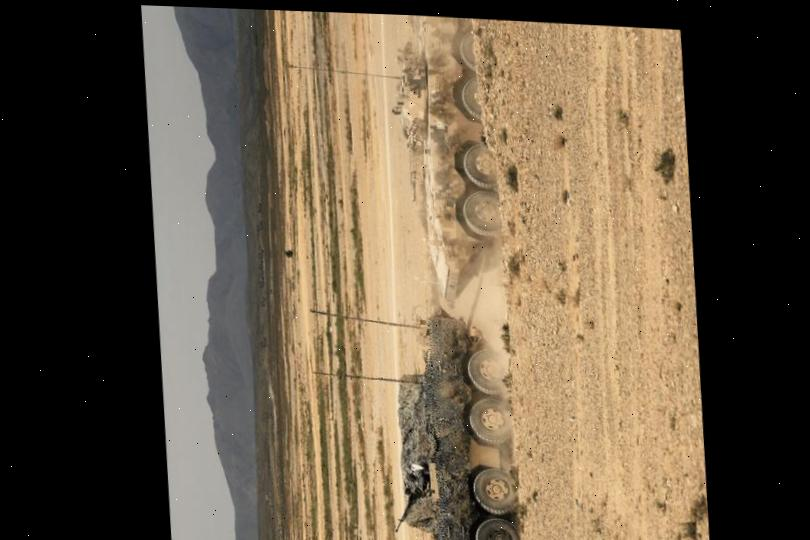tank: (382, 14, 510, 306), (384, 309, 526, 540)
